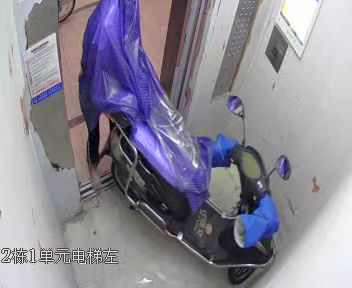Electric-bicycle: (106, 95, 292, 274)
